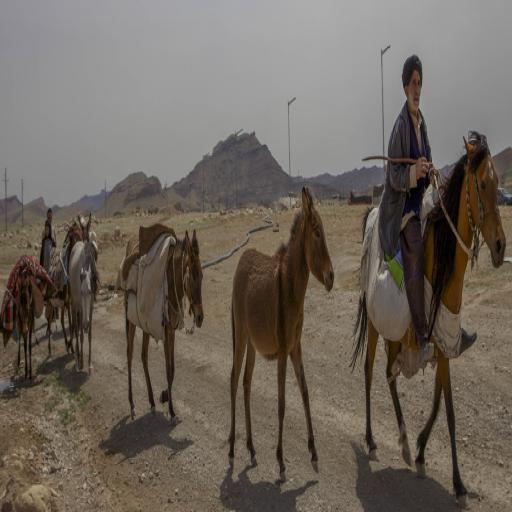horse: (346, 125, 508, 504)
